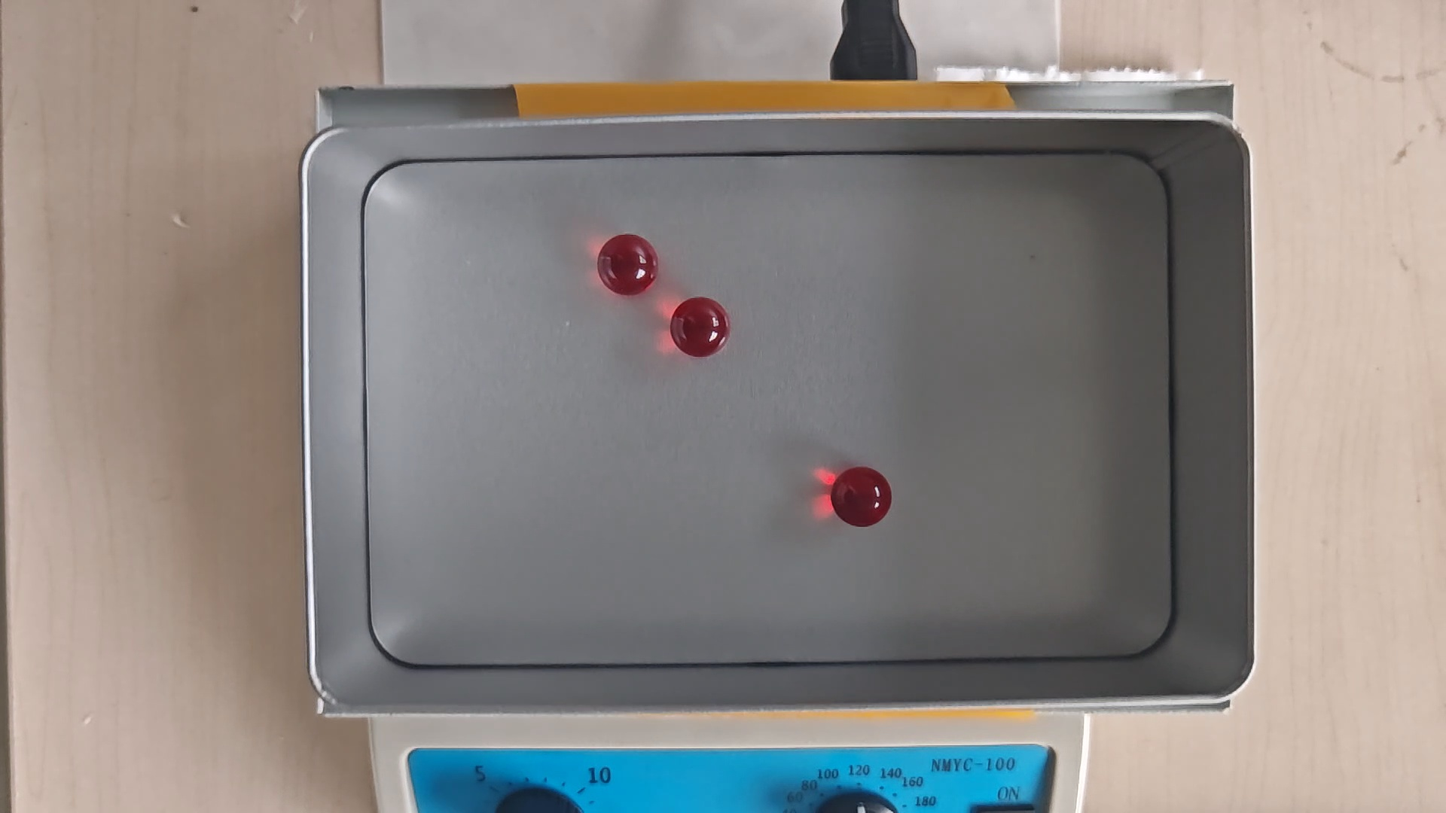ball: (597, 233, 660, 297), (830, 466, 892, 528), (670, 297, 731, 358)
container: (363, 154, 1173, 658)
